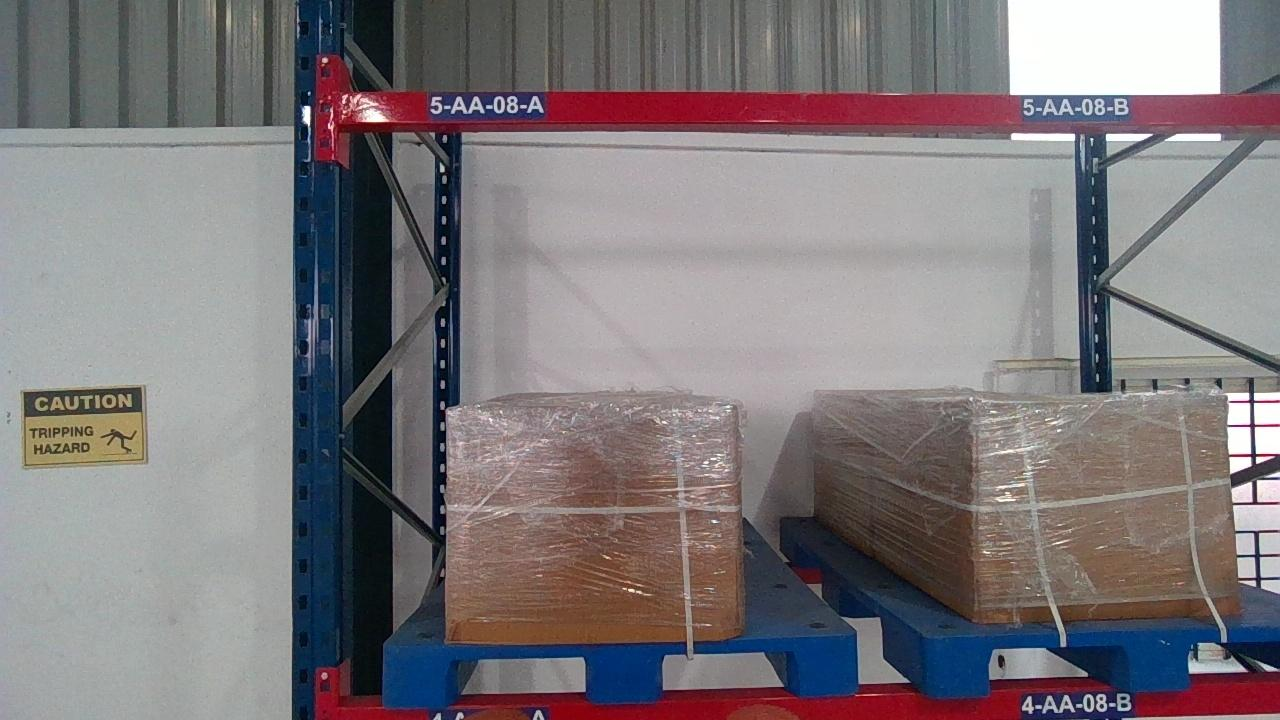h_rack: (342, 89, 1268, 126), (344, 686, 1275, 719)
small_pallet: (380, 636, 862, 702), (928, 628, 1279, 687)
